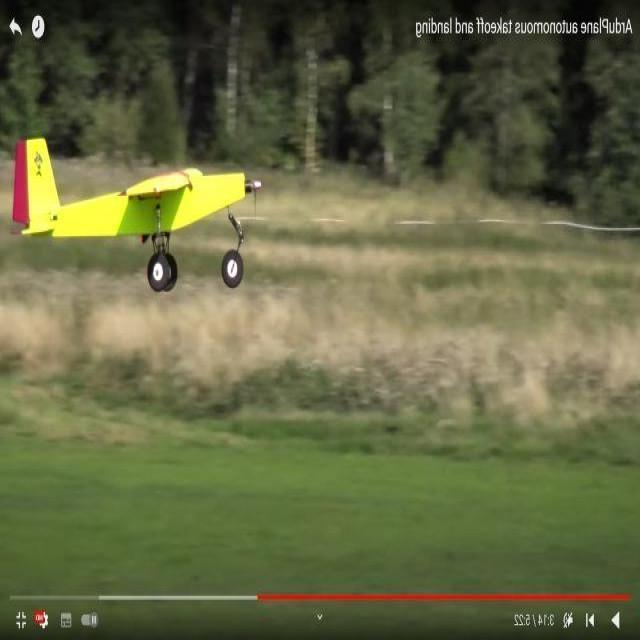Airplane: (15, 133, 274, 302)
